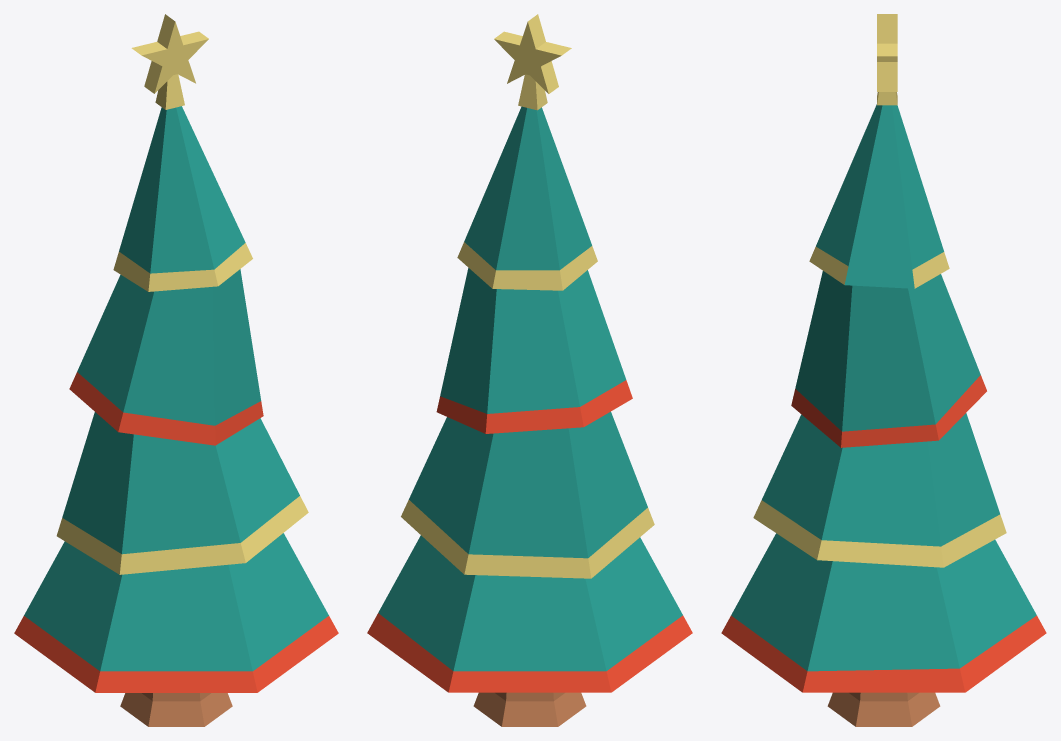
Rendered from treeDecorated.fbx.
3 renders of one model, left to right at view 1: azimuth 30°, elevation 25°; view 2: azimuth 150°, elevation 25°; view 3: azimuth 270°, elevation 25°, orthographic.
Parts seen in each view (by area): view 1: treeDecorated, star; view 2: treeDecorated, star; view 3: treeDecorated, star.
Part boxes in pixels (x1,y1,x2,y2): treeDecorated: [14, 106, 338, 726]; star: [131, 14, 208, 109]; treeDecorated: [367, 106, 692, 726]; star: [494, 14, 571, 110]; treeDecorated: [721, 104, 1046, 726]; star: [877, 14, 897, 105].
Size of the model in its own units: 6.51 by 17.59 by 7.52.
